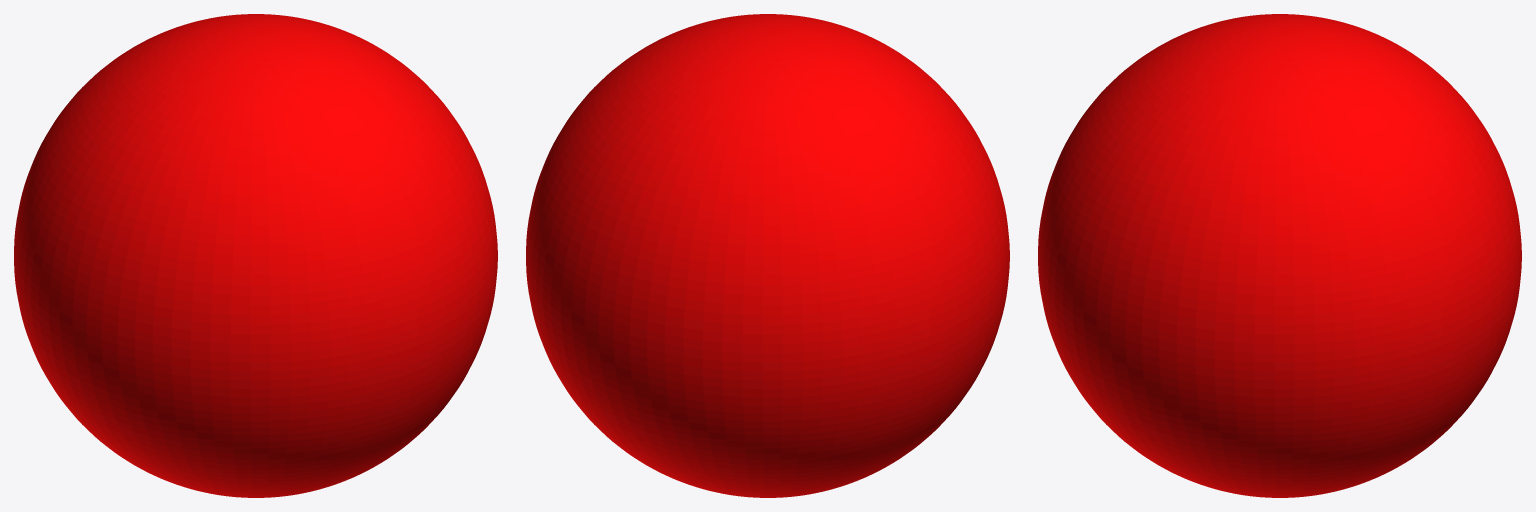
File: buoy.dae
The picture shows the model from 3 angles, left to right: view 1: azimuth 30°, elevation 25°; view 2: azimuth 150°, elevation 25°; view 3: azimuth 270°, elevation 25°; orthographic projection.
Visible parts, largest first — view 1: Sphere; view 2: Sphere; view 3: Sphere.
Part boxes in pixels (x1,y1,x2,y2): Sphere: [14, 14, 497, 497]; Sphere: [526, 14, 1009, 497]; Sphere: [1038, 14, 1521, 497].
Size of the model in its own units: 0.3681 by 0.3681 by 0.3683.
